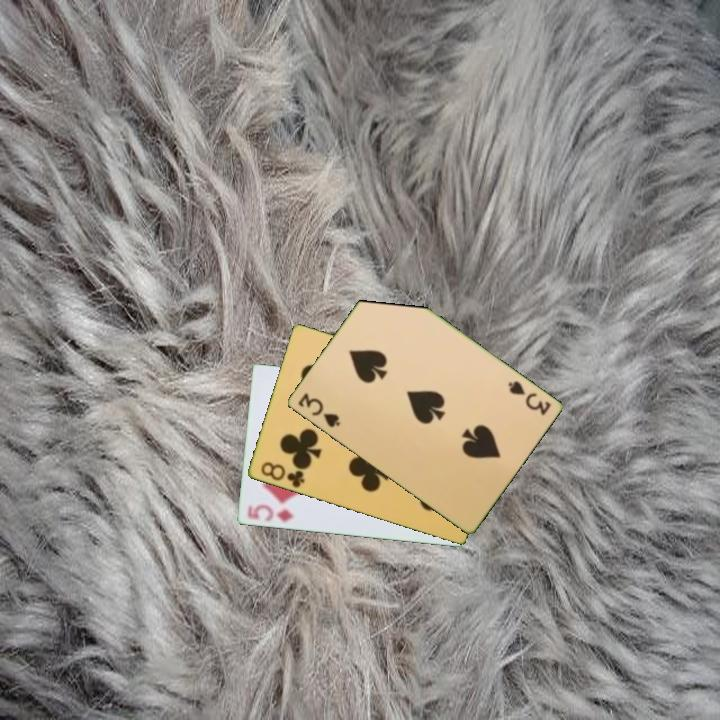3s: (294, 389, 343, 431), (504, 377, 554, 418)
5d: (244, 501, 296, 525)
8c: (257, 458, 307, 491)
